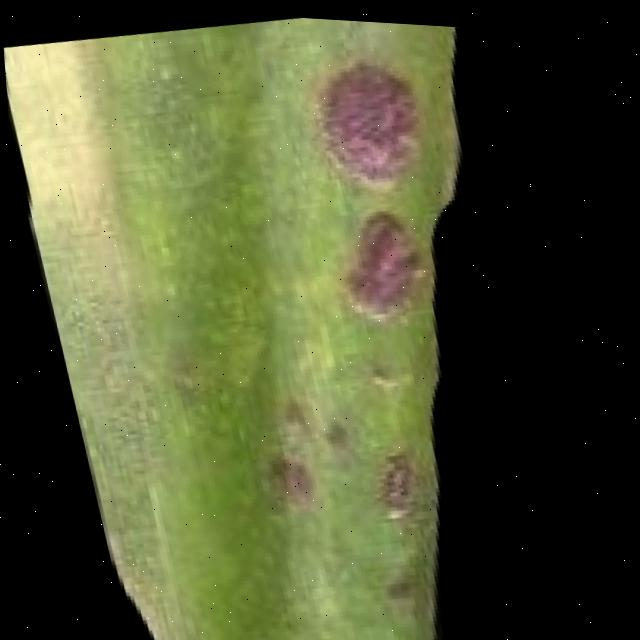mite: (163, 46, 501, 530), (233, 383, 360, 513), (355, 441, 419, 515), (357, 551, 418, 610), (300, 404, 353, 455), (350, 347, 399, 388), (367, 562, 409, 598), (265, 391, 304, 427), (309, 412, 344, 447)
sunburn: (296, 41, 438, 190)
